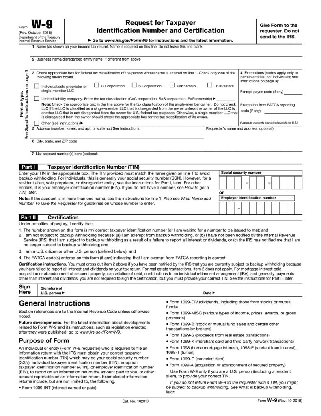checkbox: (33, 83, 39, 89), (33, 95, 39, 101), (33, 120, 39, 126), (131, 82, 137, 88), (169, 82, 175, 88), (207, 82, 213, 88), (93, 82, 100, 87)
textbox: (28, 149, 303, 165), (29, 43, 304, 58), (29, 56, 304, 71), (203, 124, 305, 153), (29, 124, 205, 139), (29, 137, 205, 152), (62, 282, 203, 298), (211, 282, 305, 298), (240, 199, 296, 215), (271, 175, 304, 191), (218, 175, 243, 190), (248, 175, 266, 190), (218, 200, 236, 215)
textline: (262, 108, 306, 115), (283, 89, 304, 96), (216, 95, 235, 102)
